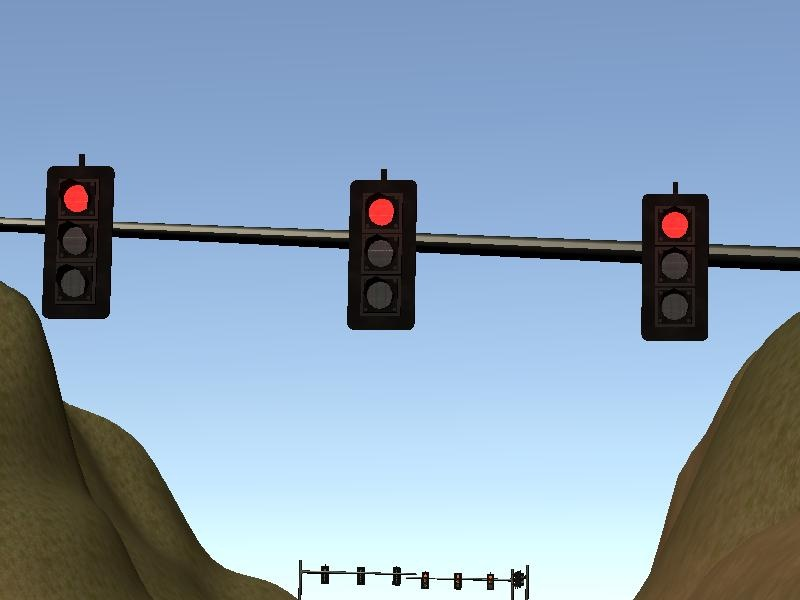RED: (41, 166, 114, 321), (345, 178, 418, 333), (641, 193, 709, 340)
